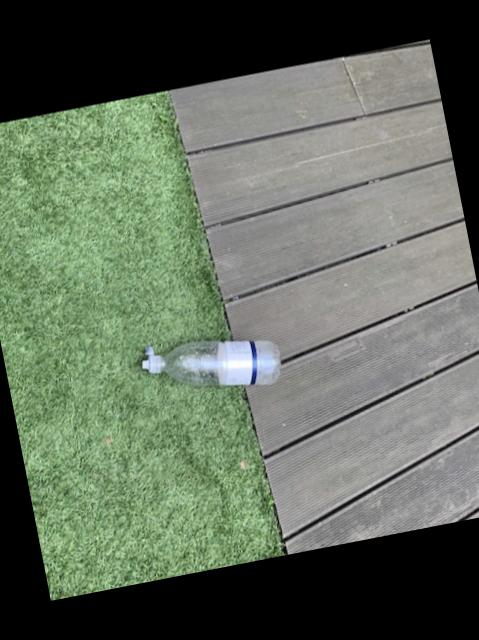plastic: (142, 341, 281, 387)
